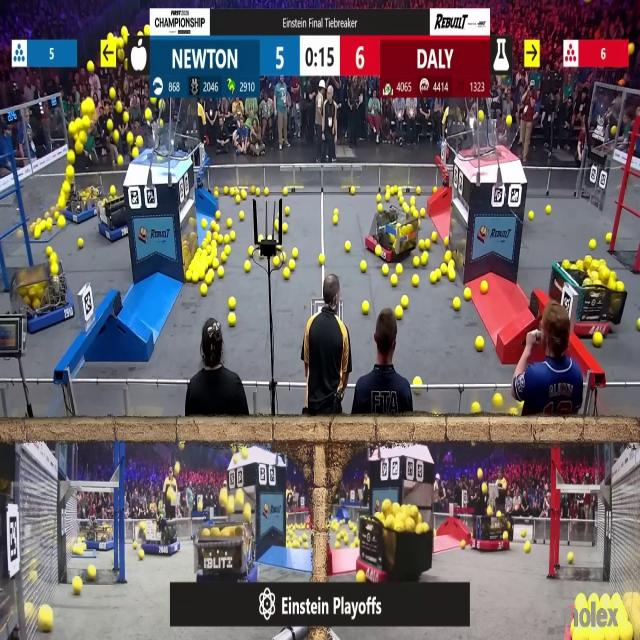ball_airborne: (85, 99, 95, 114), (236, 490, 245, 505), (244, 507, 252, 522), (220, 490, 228, 504), (120, 27, 128, 41), (67, 166, 75, 179), (78, 131, 86, 144), (226, 500, 234, 513), (69, 123, 77, 136), (75, 142, 83, 154), (68, 150, 76, 162), (86, 62, 94, 74), (82, 116, 89, 129), (59, 216, 66, 228), (113, 131, 119, 144), (168, 488, 174, 501), (121, 111, 128, 122), (115, 102, 122, 113), (505, 114, 512, 125), (109, 90, 116, 101), (478, 468, 485, 479), (50, 265, 57, 276), (128, 133, 134, 145), (116, 50, 123, 60), (137, 136, 143, 147), (482, 484, 488, 495), (629, 43, 635, 54), (107, 119, 113, 129), (146, 109, 152, 119), (133, 147, 139, 157), (64, 182, 70, 192), (610, 127, 616, 137), (175, 462, 180, 474), (117, 156, 123, 166), (144, 26, 150, 36), (480, 111, 485, 121), (150, 98, 156, 105), (488, 506, 492, 515), (161, 120, 165, 126)
ball_ground: (40, 608, 53, 633), (72, 579, 82, 596), (493, 393, 502, 408), (90, 566, 98, 580), (206, 271, 214, 285), (470, 401, 479, 413), (356, 570, 365, 582), (361, 302, 369, 315), (594, 335, 602, 348), (227, 313, 235, 326), (475, 338, 482, 352), (400, 296, 408, 308), (420, 252, 428, 264), (230, 299, 237, 312), (382, 266, 390, 277), (200, 271, 208, 282), (464, 288, 471, 300), (395, 307, 402, 319), (454, 297, 461, 309), (414, 376, 422, 386), (482, 281, 488, 294), (413, 276, 420, 287), (414, 255, 420, 267), (74, 544, 82, 553), (217, 269, 224, 279), (449, 272, 456, 282), (244, 263, 251, 273), (274, 256, 281, 266), (524, 542, 531, 552), (212, 260, 219, 270), (210, 220, 217, 230), (445, 252, 452, 262), (202, 284, 208, 295), (284, 269, 290, 280), (289, 261, 295, 272), (567, 553, 573, 564), (430, 273, 436, 284), (191, 273, 197, 284), (35, 229, 41, 240), (360, 263, 366, 273), (391, 276, 397, 286), (395, 266, 401, 276), (606, 234, 612, 244), (346, 242, 352, 252), (292, 248, 298, 258), (282, 222, 288, 232), (78, 239, 84, 249), (590, 240, 596, 250), (445, 237, 451, 247), (223, 234, 229, 244), (442, 265, 448, 275), (424, 240, 430, 250), (434, 272, 440, 282), (413, 207, 419, 217), (403, 204, 409, 214), (510, 410, 518, 417), (187, 217, 194, 225), (377, 246, 382, 257), (248, 247, 254, 256), (420, 208, 426, 217), (331, 215, 337, 224), (528, 211, 534, 220), (220, 253, 226, 262), (202, 219, 208, 228), (378, 204, 384, 213), (206, 232, 212, 241), (319, 254, 324, 264), (431, 233, 436, 243), (420, 240, 425, 250), (213, 190, 220, 197), (460, 540, 466, 548), (284, 207, 290, 215), (231, 234, 237, 242), (411, 198, 417, 206), (545, 206, 550, 215), (185, 273, 190, 282), (224, 246, 229, 255), (240, 211, 245, 220), (46, 247, 51, 256), (237, 194, 242, 203), (218, 235, 223, 244), (81, 542, 86, 551), (350, 187, 356, 194), (133, 541, 139, 548), (226, 218, 231, 226), (636, 319, 640, 329), (275, 220, 280, 228), (212, 240, 217, 248), (140, 551, 144, 560), (216, 211, 220, 220), (335, 209, 341, 215), (377, 194, 382, 201), (386, 192, 390, 200), (284, 187, 288, 195), (417, 186, 421, 194), (337, 540, 341, 548), (223, 186, 227, 194), (242, 190, 246, 198), (258, 236, 262, 243), (522, 530, 526, 537), (266, 188, 270, 195), (256, 188, 260, 195), (432, 186, 436, 193), (203, 241, 207, 248), (269, 236, 273, 242)
goal: (466, 122, 520, 160), (129, 130, 190, 160)
robot_blue: (192, 524, 256, 601), (18, 264, 74, 332), (96, 188, 129, 244), (65, 183, 98, 224), (144, 520, 181, 556), (84, 522, 114, 550), (0, 584, 10, 636)
robot_red: (354, 511, 432, 587), (575, 256, 627, 336), (368, 206, 420, 260), (474, 511, 514, 551)
